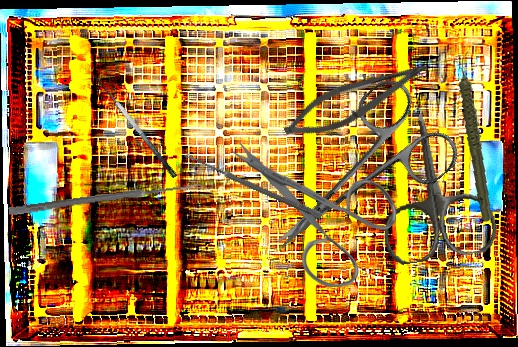Handpiece: (445, 51, 508, 223)
Iris Scissors: (240, 70, 466, 286), (228, 139, 398, 289), (366, 105, 500, 267)
Micro Scissor: (277, 44, 434, 153)
Spatula Surgical: (85, 70, 179, 186)
Surgical Spoon: (183, 151, 323, 220), (8, 180, 203, 217)
